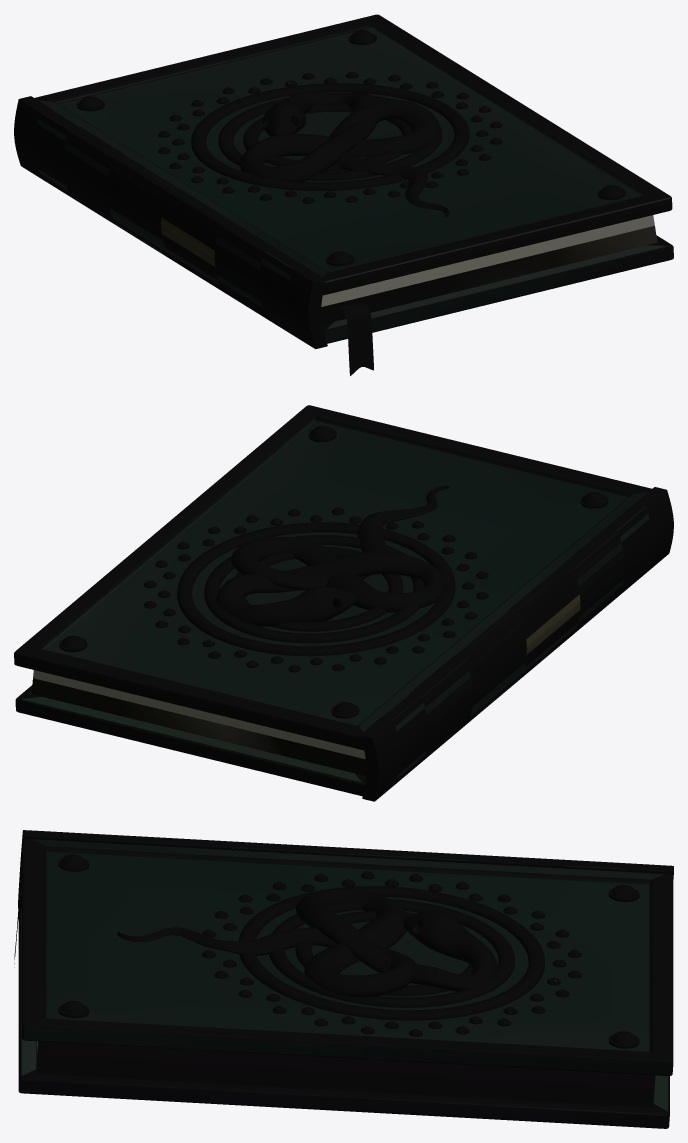
File: witch_craft_book_5f026b16.glb
The picture shows the model from 3 angles, top to bottom: view 1: azimuth 30°, elevation 25°; view 2: azimuth 150°, elevation 25°; view 3: azimuth 270°, elevation 25°; orthographic projection. The views are drawn at different scales.
Parts seen in each view (by area): view 1: Witch Craft Book; view 2: Witch Craft Book; view 3: Witch Craft Book.
Part boxes in pixels (<box>): Witch Craft Book: <box>14,14,673,375</box>; Witch Craft Book: <box>14,405,673,801</box>; Witch Craft Book: <box>14,830,673,1128</box>.
Size of the model in its own units: 0.1804 by 0.0475 by 0.2555.
Materials: 2 (2 with a texture image).
